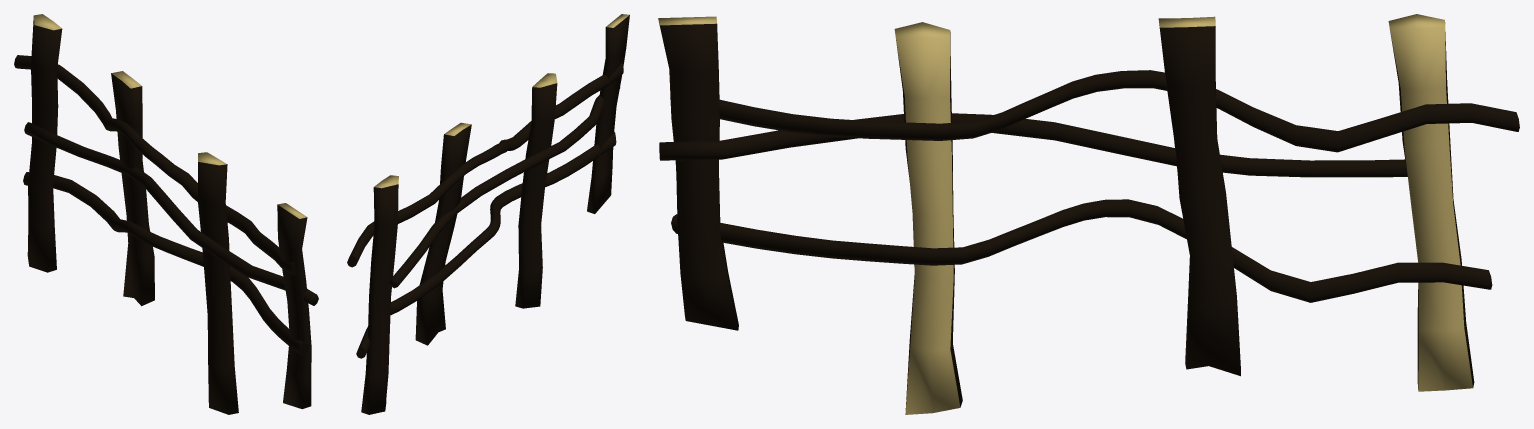
The model's file is fence2.fbx.
3 views of the same model, side by side, from view 1: azimuth 30°, elevation 25°; view 2: azimuth 150°, elevation 25°; view 3: azimuth 270°, elevation 25° (orthographic). The views are drawn at different scales.
Visible parts, largest first — view 1: fence2_LOD0; view 2: fence2_LOD0; view 3: fence2_LOD0.
Part boxes in pixels (left/top/right/bottom): fence2_LOD0: left=14, top=14, right=318, bottom=414; fence2_LOD0: left=347, top=14, right=629, bottom=414; fence2_LOD0: left=658, top=14, right=1519, bottom=414.
Size of what is drawn, in the model's own units: 41.69 by 159 by 323.
